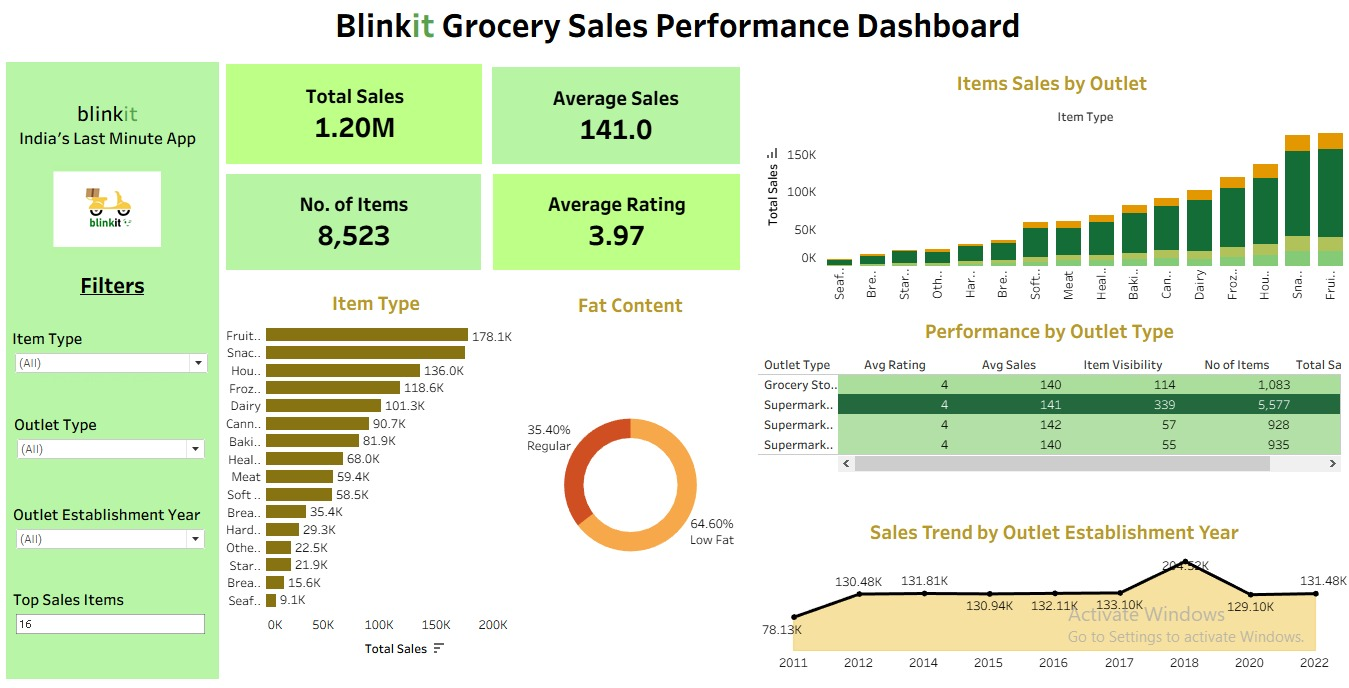

What the dashboard file says about the page in this screenshot:
{"tool":"tableau","page":{"name":"Dashboard 1","canvas":[1000,1000],"units":"permille","ordinal":0},"visuals":[{"type":"title","box":[6.9,14.5,986.1,81.5]},{"type":"text","box":[6.9,96,183.4,217.4]},{"type":"worksheet","title":"Total Sales","mark":"Automatic","box":[190.3,96,167.9,169.8]},{"type":"worksheet","title":"Avg Sales","mark":"Automatic","box":[358.2,96,195.7,177.1]},{"type":"worksheet","title":"Outlet Establishment","mark":"Area","rows":["Calculation_0785622039511040","Calculation_0785622039511040"],"cols":["Outlet Establishment Year"],"box":[553.9,96,439.2,363.2]},{"type":"worksheet","title":"No of items","mark":"Automatic","box":[190.3,265.8,167.9,193.5]},{"type":"worksheet","title":"Avg Rating","mark":"Automatic","box":[358.2,273.1,195.7,186.2]},{"type":"filter","title":"Fat Content","param":"[federated.0uk5p931tu9idw16or69n02ghb97].[none:Item Fat Content:nk]","box":[6.9,313.4,183.4,163]},{"type":"worksheet","title":"Fat Content","mark":"Pie","cols":["Calculation_0529437356986378","Calculation_0529437356986378"],"box":[190.3,459.3,168,526.2]},{"type":"worksheet","title":"Item type","mark":"Automatic","rows":["Item Type"],"cols":["Calculation_0785622039511040"],"box":[358.3,459.3,233.3,526.2]},{"type":"worksheet","title":"outlet type","mark":"Square","rows":["Outlet Type"],"box":[591.6,459.3,401.4,263]},{"type":"filter","title":"Outlet Establishment","param":"[federated.0uk5p931tu9idw16or69n02ghb97].[yr:Outlet Establishment Year:ok]","box":[6.9,476.4,183.4,94.2]},{"type":"parameter","param":"[Parameters].[Parameter 1]","box":[6.9,570.6,183.4,94.2]},{"type":"worksheet","title":"Sheet 15","mark":"Bar","rows":["Calculation_0785622039511040"],"cols":["Item Type"],"box":[591.6,722.3,401.4,263.2]}]}

Visuals, with their boxes on the dashboard's canvas, which has no fixed pixel size, in thousandths of its width and height (x1, y1, x2, y2). These are canvas units, not pixel positions in the 1349x688 screenshot, which may show the page scaled, cropped or inside an application window:
title: 7, 14, 993, 96
text: 7, 96, 190, 313
"Total Sales" worksheet: 190, 96, 358, 266
"Avg Sales" worksheet: 358, 96, 554, 273
"Outlet Establishment" worksheet (Area marks): 554, 96, 993, 459
"No of items" worksheet: 190, 266, 358, 459
"Avg Rating" worksheet: 358, 273, 554, 459
"Fat Content" filter: 7, 313, 190, 476
"Fat Content" worksheet (Pie marks): 190, 459, 358, 986
"Item type" worksheet: 358, 459, 592, 986
"outlet type" worksheet (Square marks): 592, 459, 993, 722
"Outlet Establishment" filter: 7, 476, 190, 571
parameter: 7, 571, 190, 665
"Sheet 15" worksheet (Bar marks): 592, 722, 993, 986
